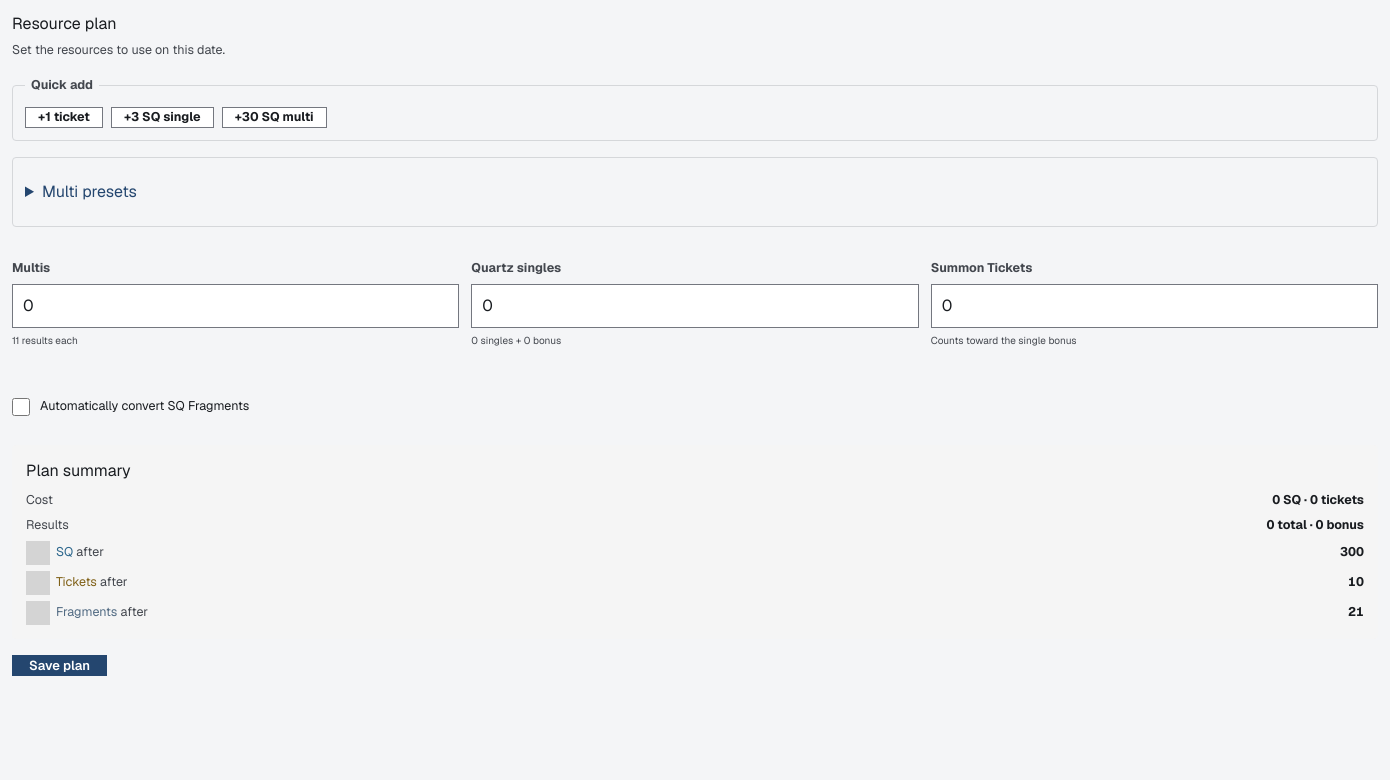
Test: mounted summon planning workflow › shows validation without saving an empty plan, then clears it after a valid submit
Click the button "Save plan".
click(60, 665)  # box [12, 655, 107, 676]
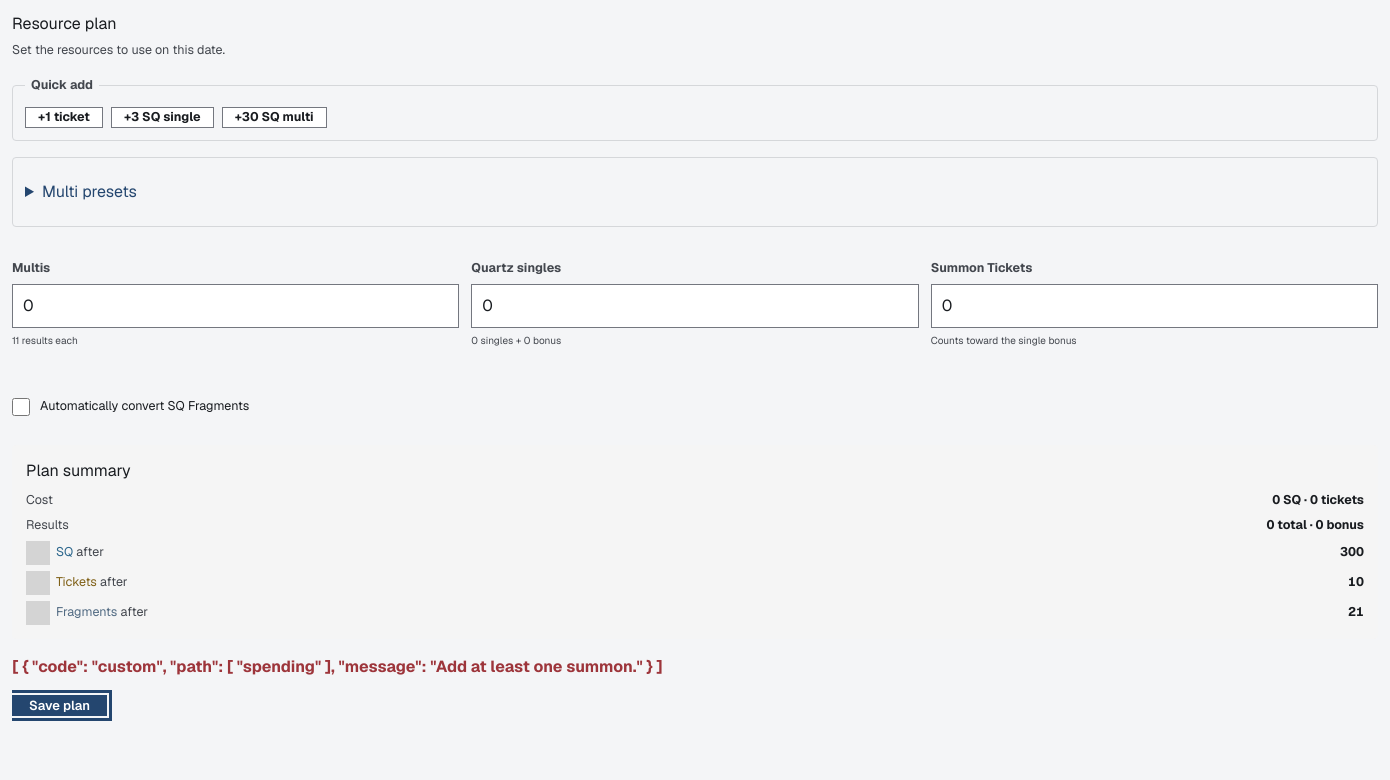
Result: the message shows "Add at least one summon." at [12, 656, 663, 677]
Click the button "+1 ticket".
click(64, 117)  # box [25, 107, 103, 128]
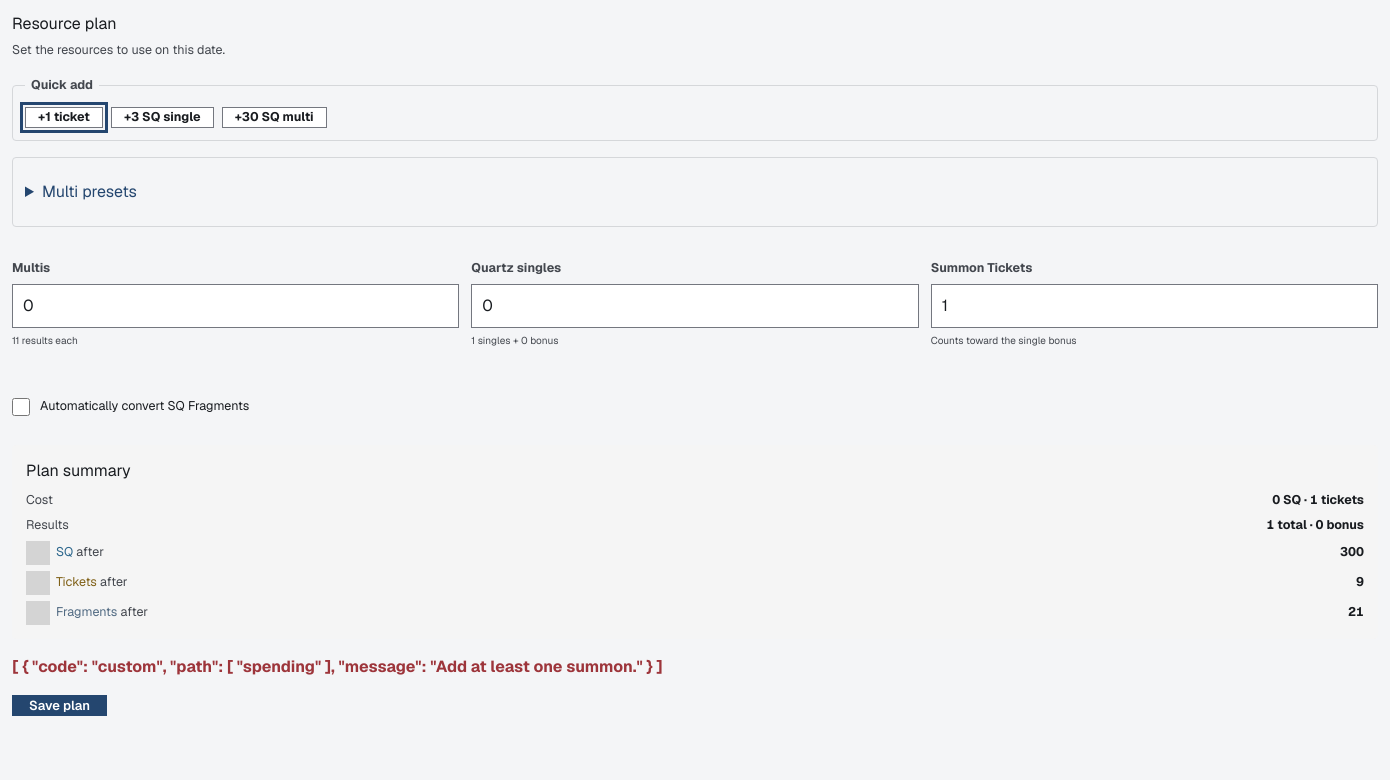
Click the button "Save plan".
click(60, 705)  # box [12, 695, 107, 716]
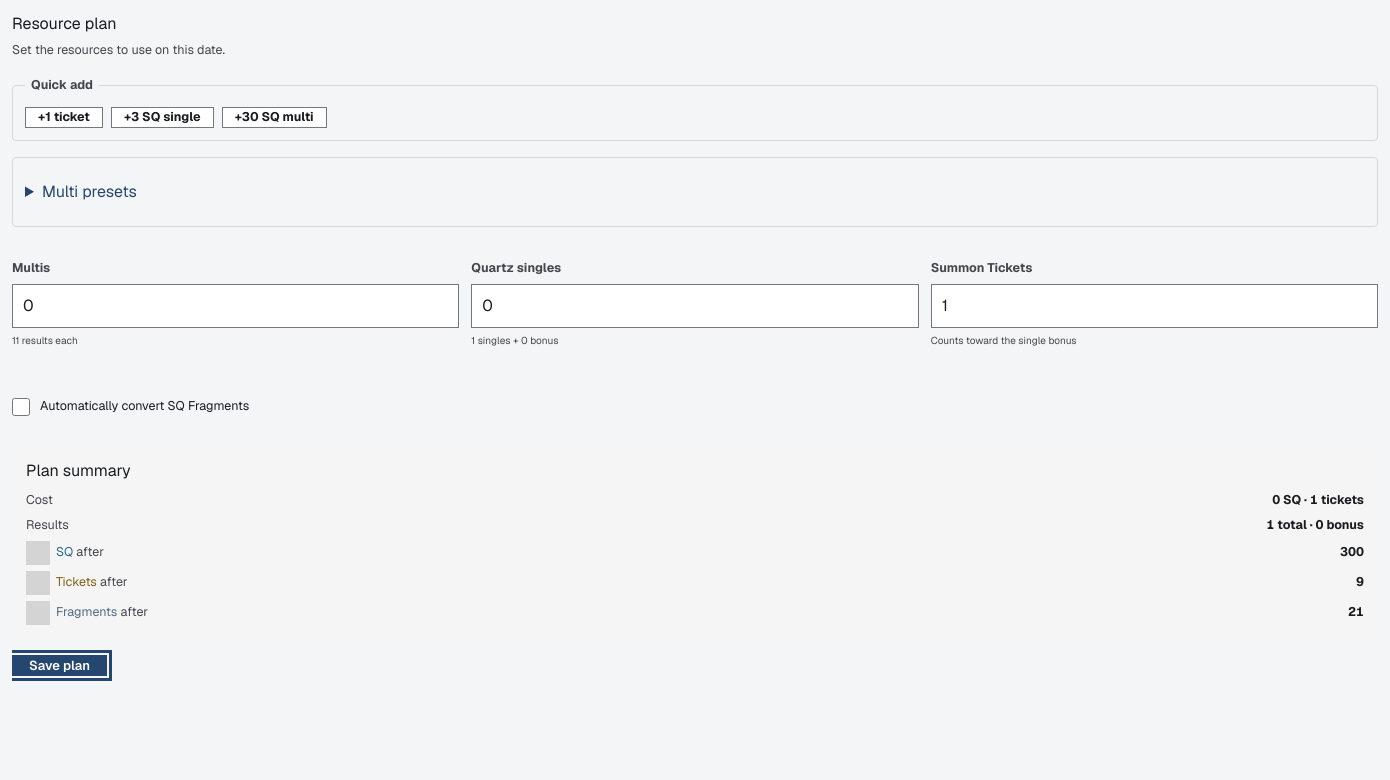
Result: the message is gone
